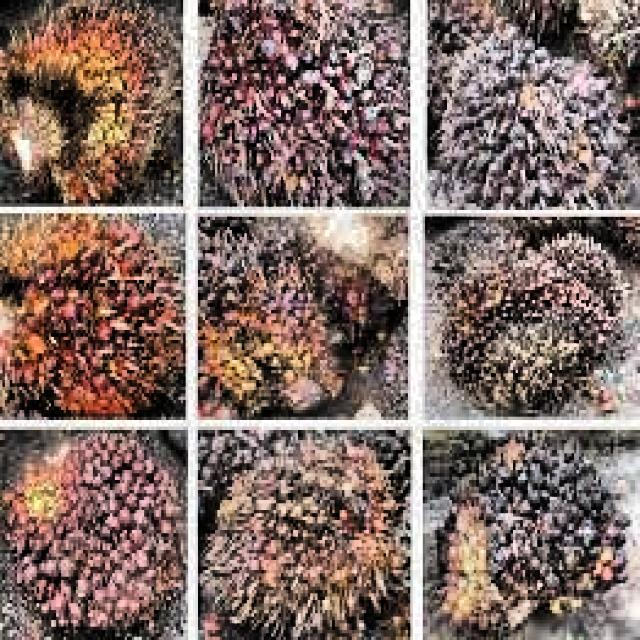FFB: (197, 0, 408, 216), (203, 430, 400, 635), (199, 228, 399, 412), (1, 435, 180, 640), (4, 216, 185, 415), (439, 445, 627, 626), (0, 0, 172, 196), (430, 26, 621, 202), (435, 241, 620, 413)
